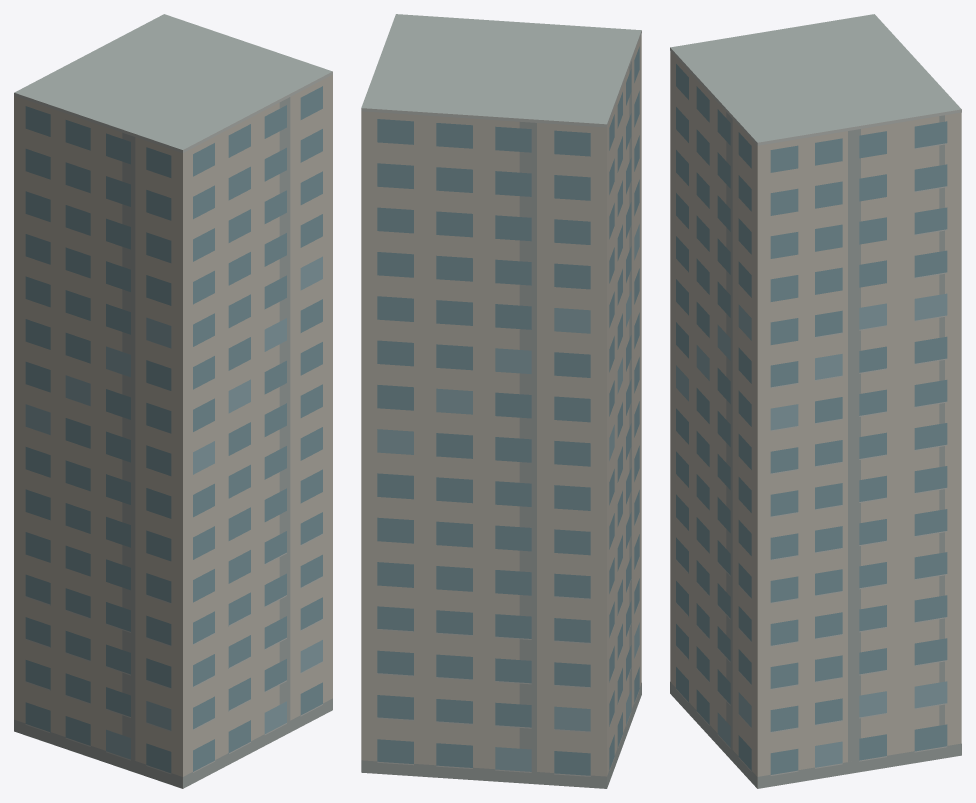
The model's file is residential-f788565b-8d24-404a-bbc3-7a9640e60f93.glb.
3 renders of one model, left to right at view 1: azimuth 30°, elevation 25°; view 2: azimuth 150°, elevation 25°; view 3: azimuth 270°, elevation 25°, orthographic. The views are drawn at different scales.
Parts seen in each view (by area): view 1: residential-f788565b-8d24-404a-bbc3-7a9640e60f93.tmp; view 2: residential-f788565b-8d24-404a-bbc3-7a9640e60f93.tmp; view 3: residential-f788565b-8d24-404a-bbc3-7a9640e60f93.tmp.
Boxes of the visible parts, x1,y1,x2,y2 form: residential-f788565b-8d24-404a-bbc3-7a9640e60f93.tmp: (14,14,332,788); residential-f788565b-8d24-404a-bbc3-7a9640e60f93.tmp: (361,14,641,788); residential-f788565b-8d24-404a-bbc3-7a9640e60f93.tmp: (670,14,961,788).
Bounding box in the file's own units: 21.37 × 50 × 20.46.
